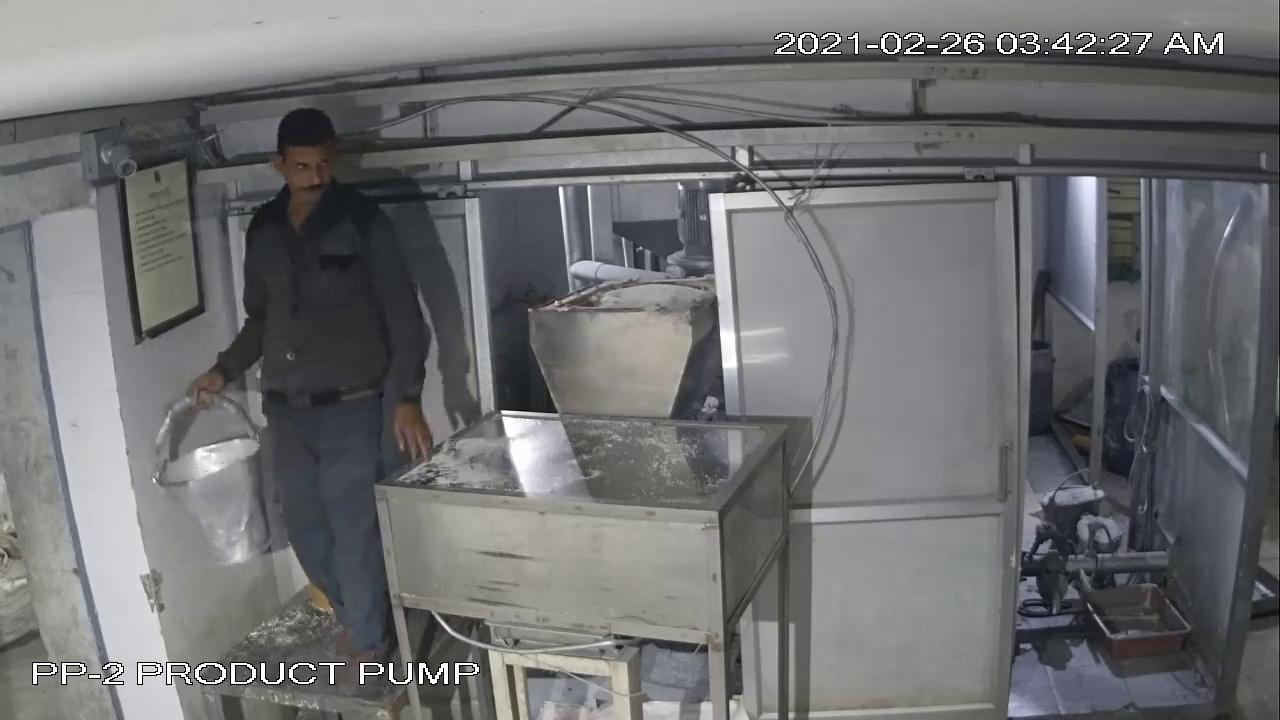NO-Hardhat: (262, 114, 349, 204)
